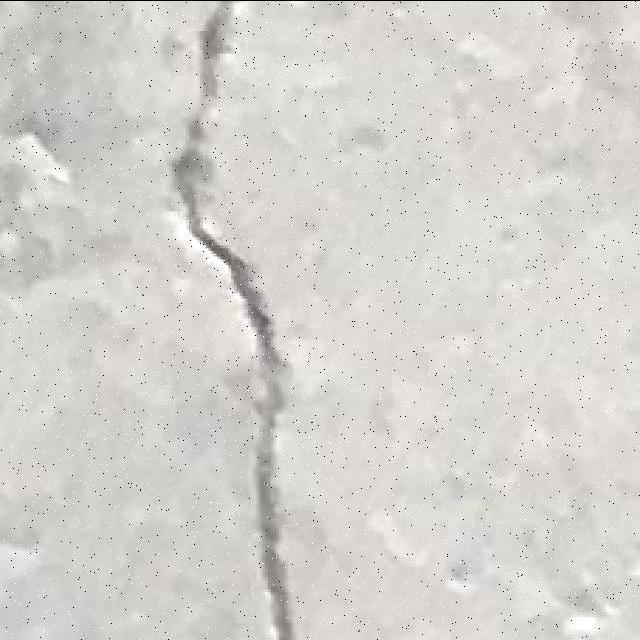Crack: (171, 2, 295, 637)
